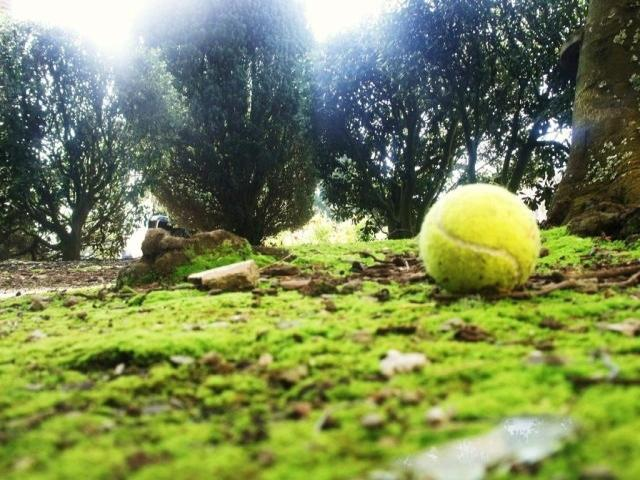tennis-ball: (419, 184, 542, 294)
